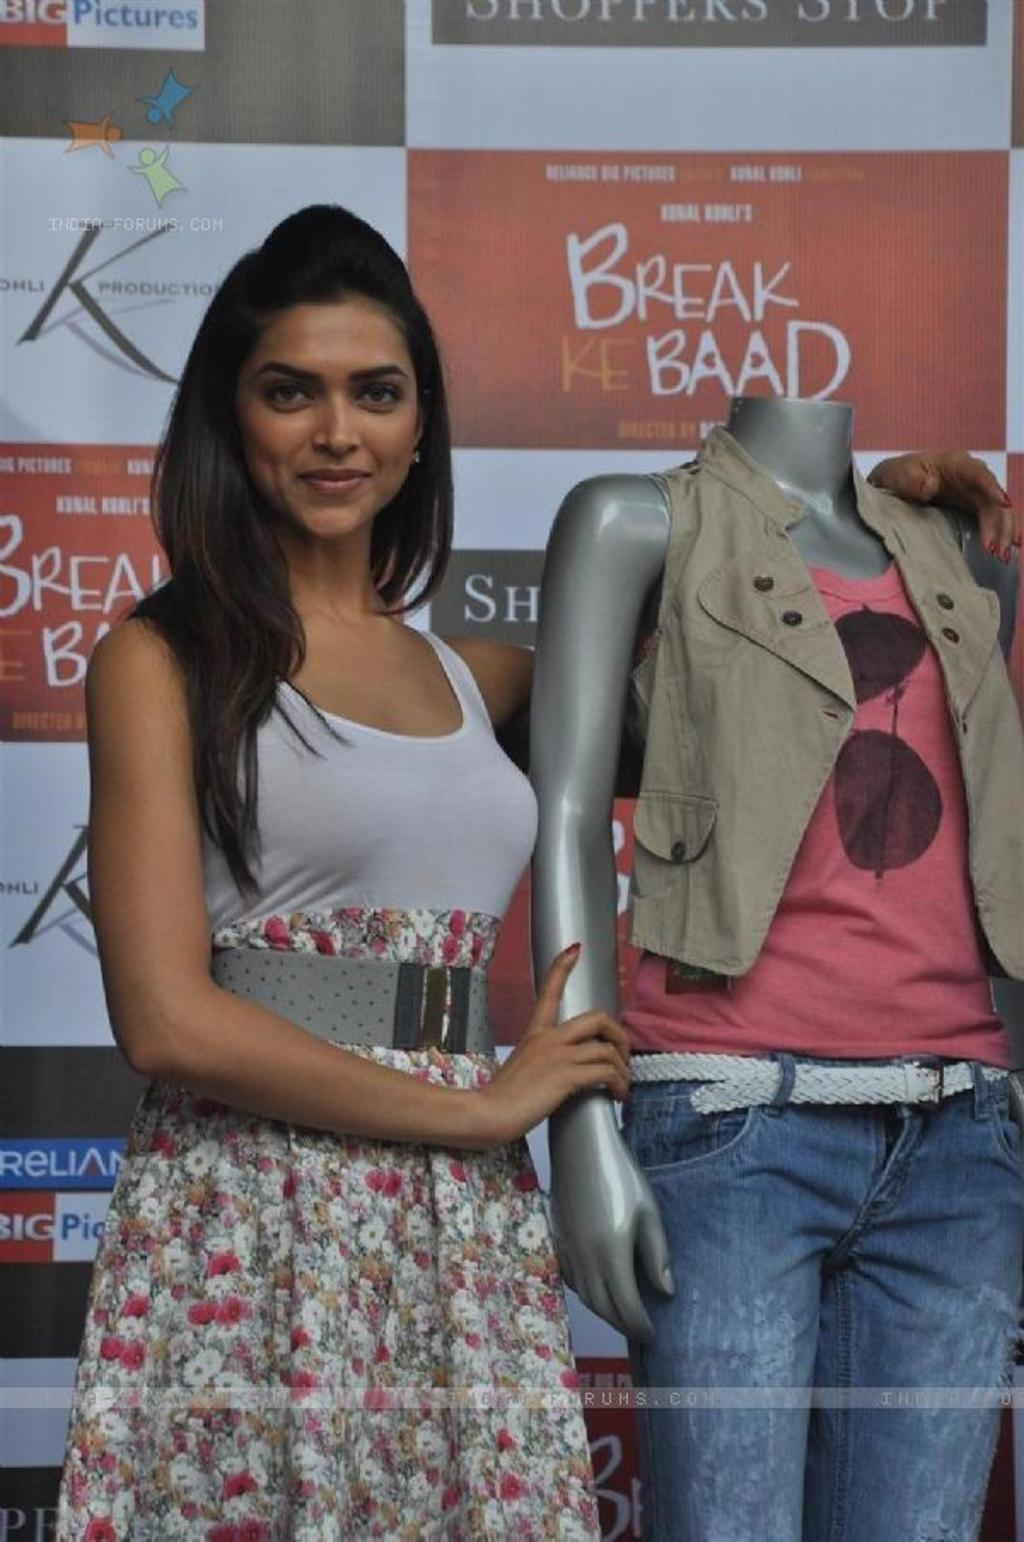face: (239, 314, 423, 531)
